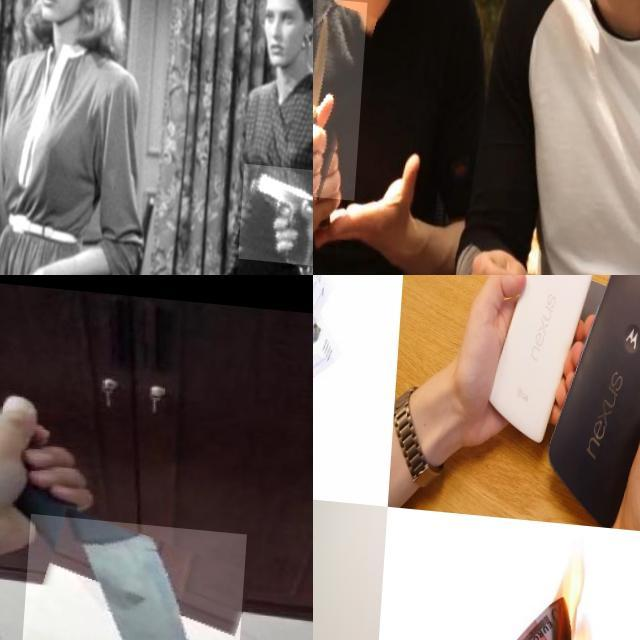-: (23, 510, 250, 640), (313, 0, 372, 197)
gun-knife-thesis - v11 Yolov5 augmented: (243, 154, 313, 256)
